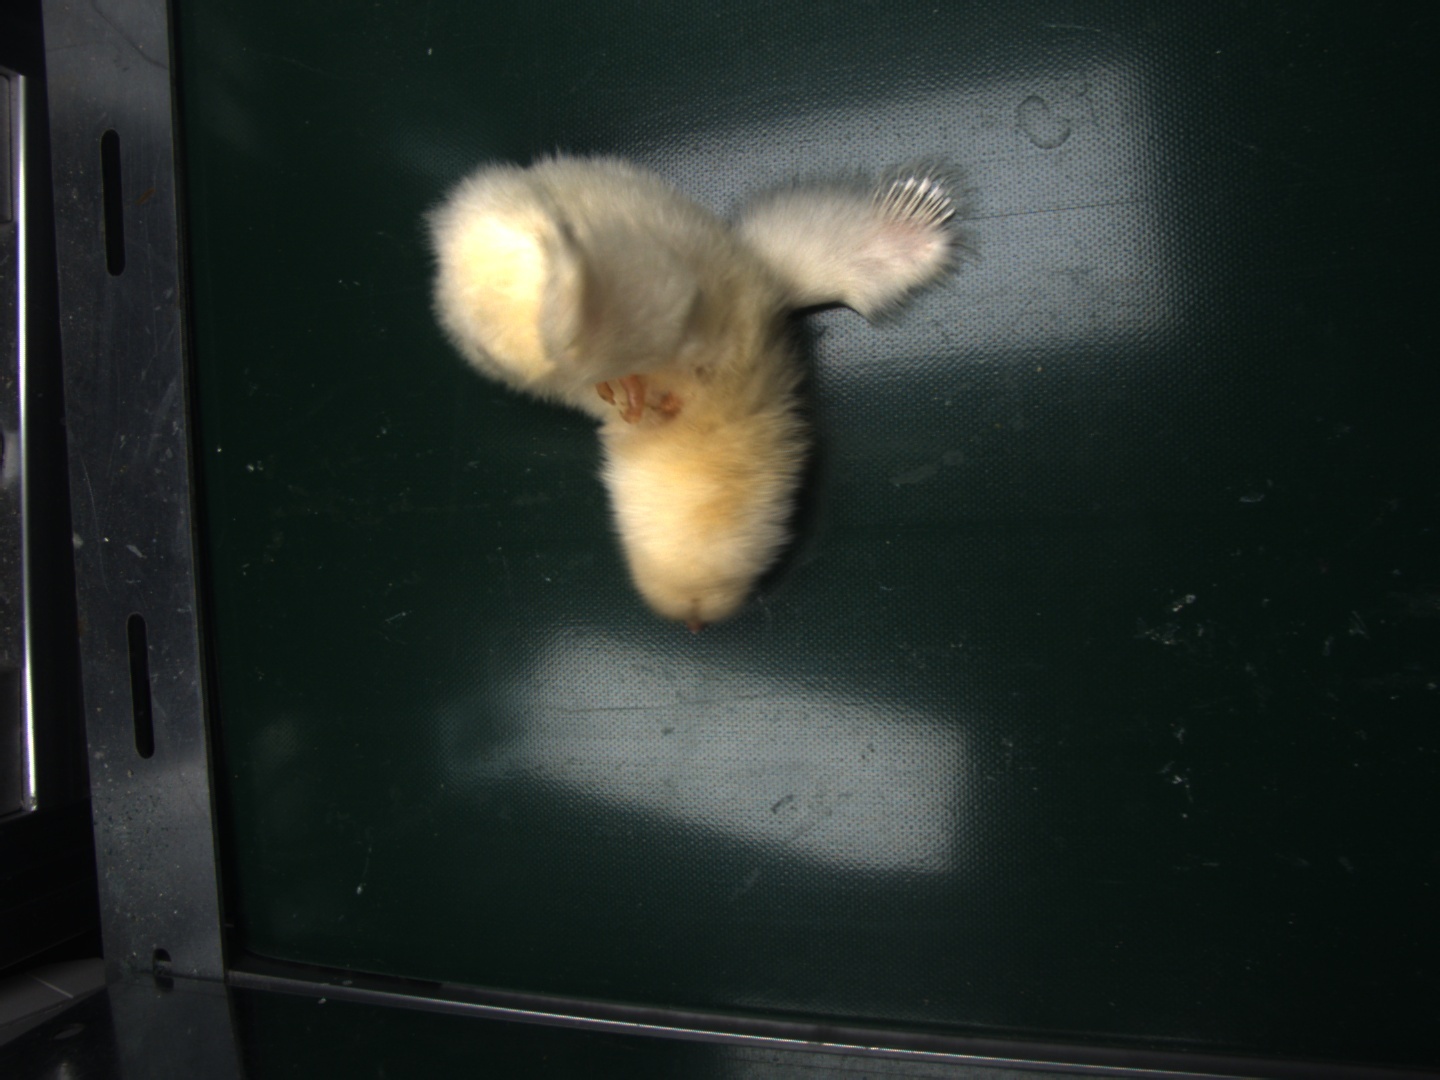male: (872, 174, 957, 233)
